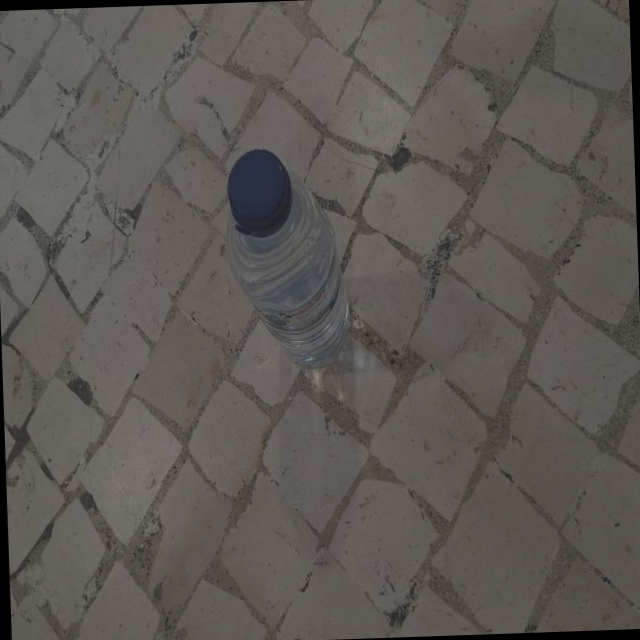Plastic-bottle: (217, 138, 361, 381)
